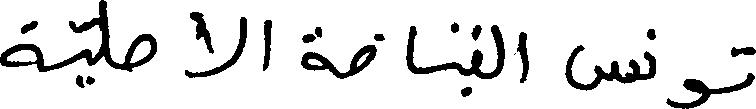X: (186, 7, 245, 82), (566, 40, 637, 95), (0, 16, 39, 76), (125, 29, 154, 76), (351, 29, 376, 80), (301, 22, 325, 75), (683, 74, 709, 108), (492, 20, 503, 82), (472, 20, 482, 83), (82, 16, 90, 92), (519, 27, 528, 87), (645, 24, 654, 84), (406, 21, 414, 78), (746, 42, 755, 91), (264, 15, 271, 75), (452, 17, 459, 77), (103, 0, 108, 68)
